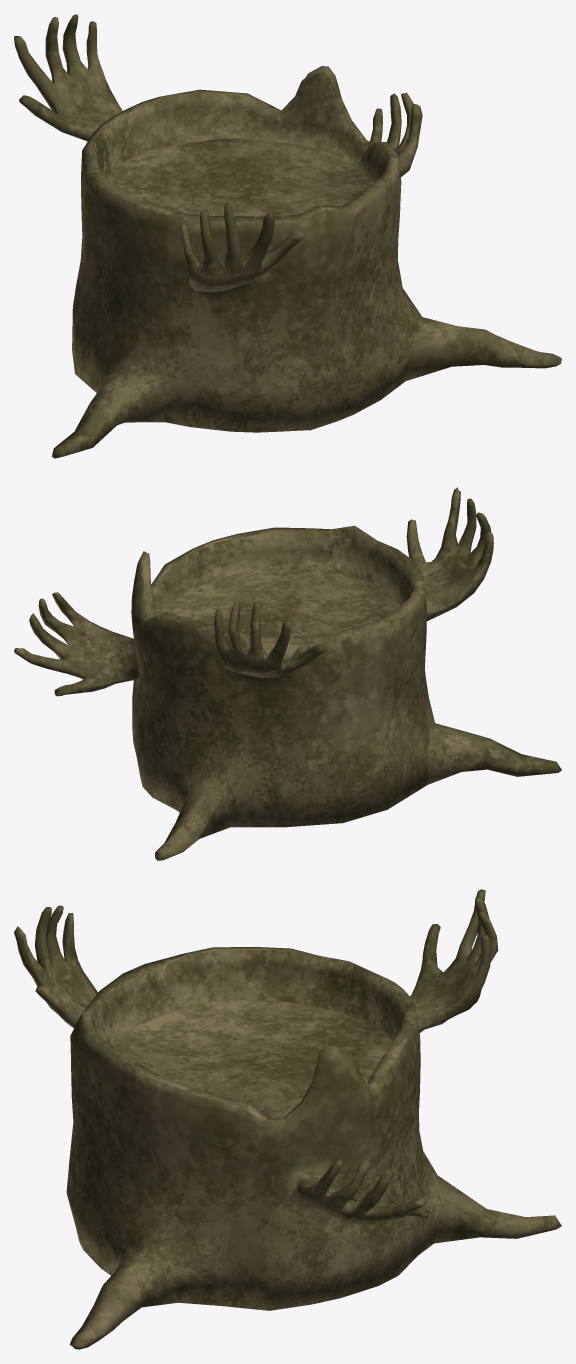
The model's file is Baumfbx.fbx.
3 renders of one model, top to bottom at view 1: azimuth 30°, elevation 25°; view 2: azimuth 150°, elevation 25°; view 3: azimuth 270°, elevation 25°, orthographic. The views are drawn at different scales.
Parts seen in each view (by area): view 1: LP; view 2: LP; view 3: LP.
Part boxes in pixels (x1,y1,x2,y2): LP: (14,14,561,458); LP: (14,487,561,860); LP: (14,889,561,1349).
Bounding box in the file's own units: 474 × 268 × 442.
